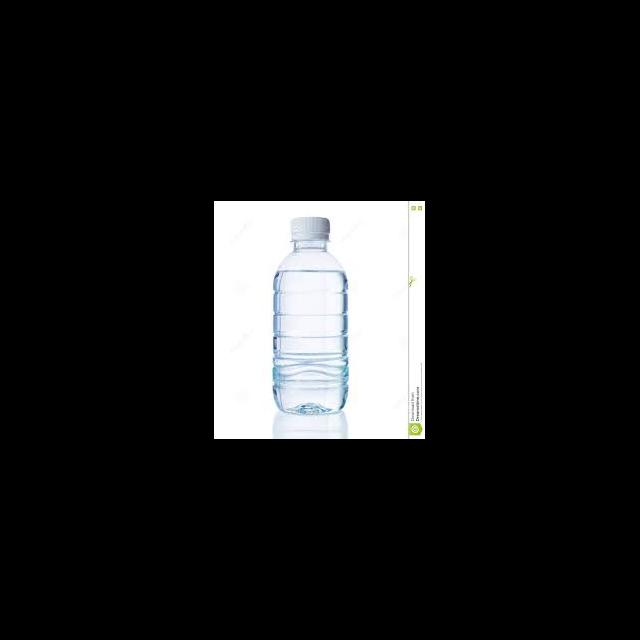plastic: (272, 215, 348, 414), (290, 215, 330, 244)
